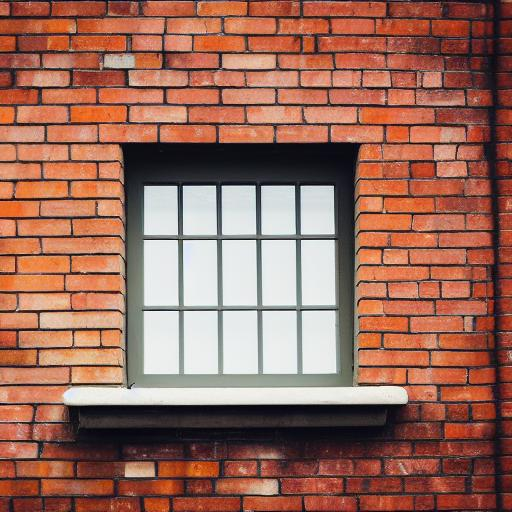Window: (63, 142, 409, 433)
